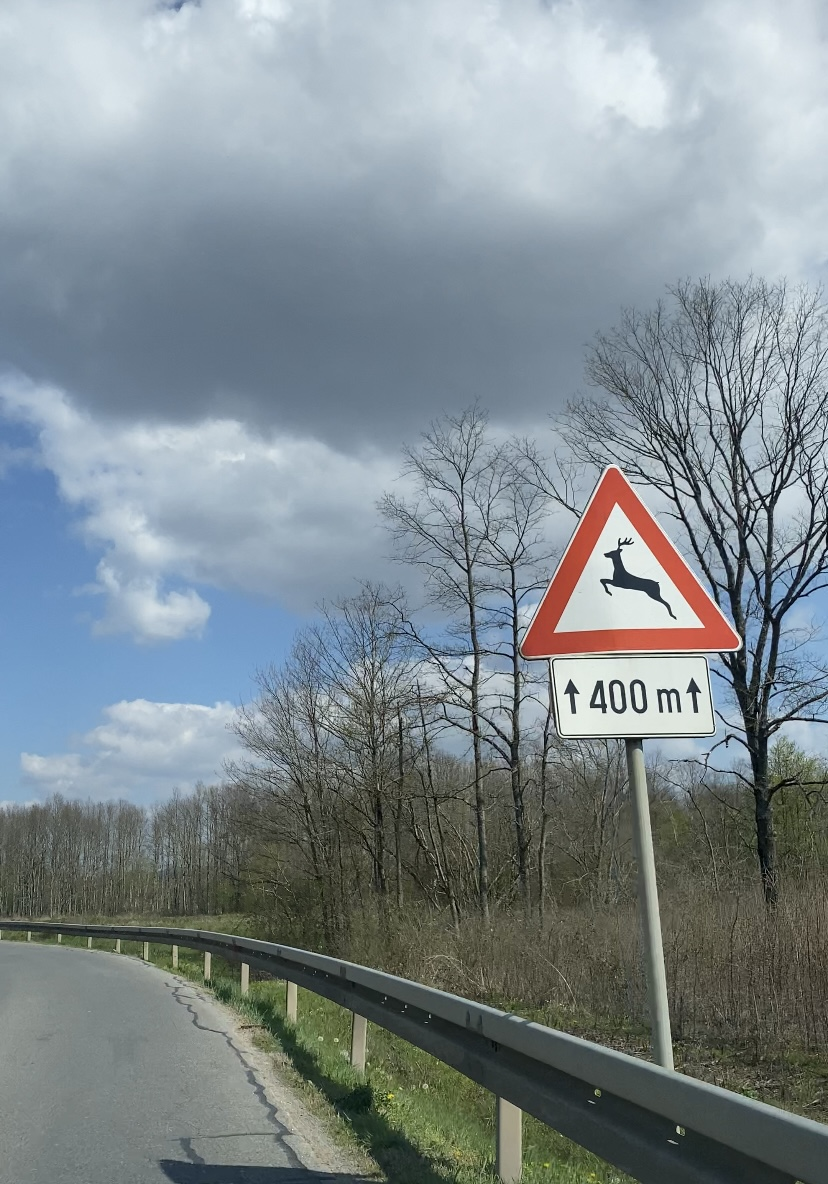Divljač na cesti: (519, 464, 743, 660)
